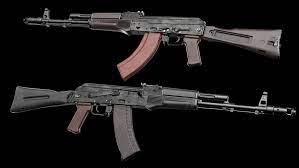larga: (10, 82, 297, 160), (23, 8, 283, 82)
